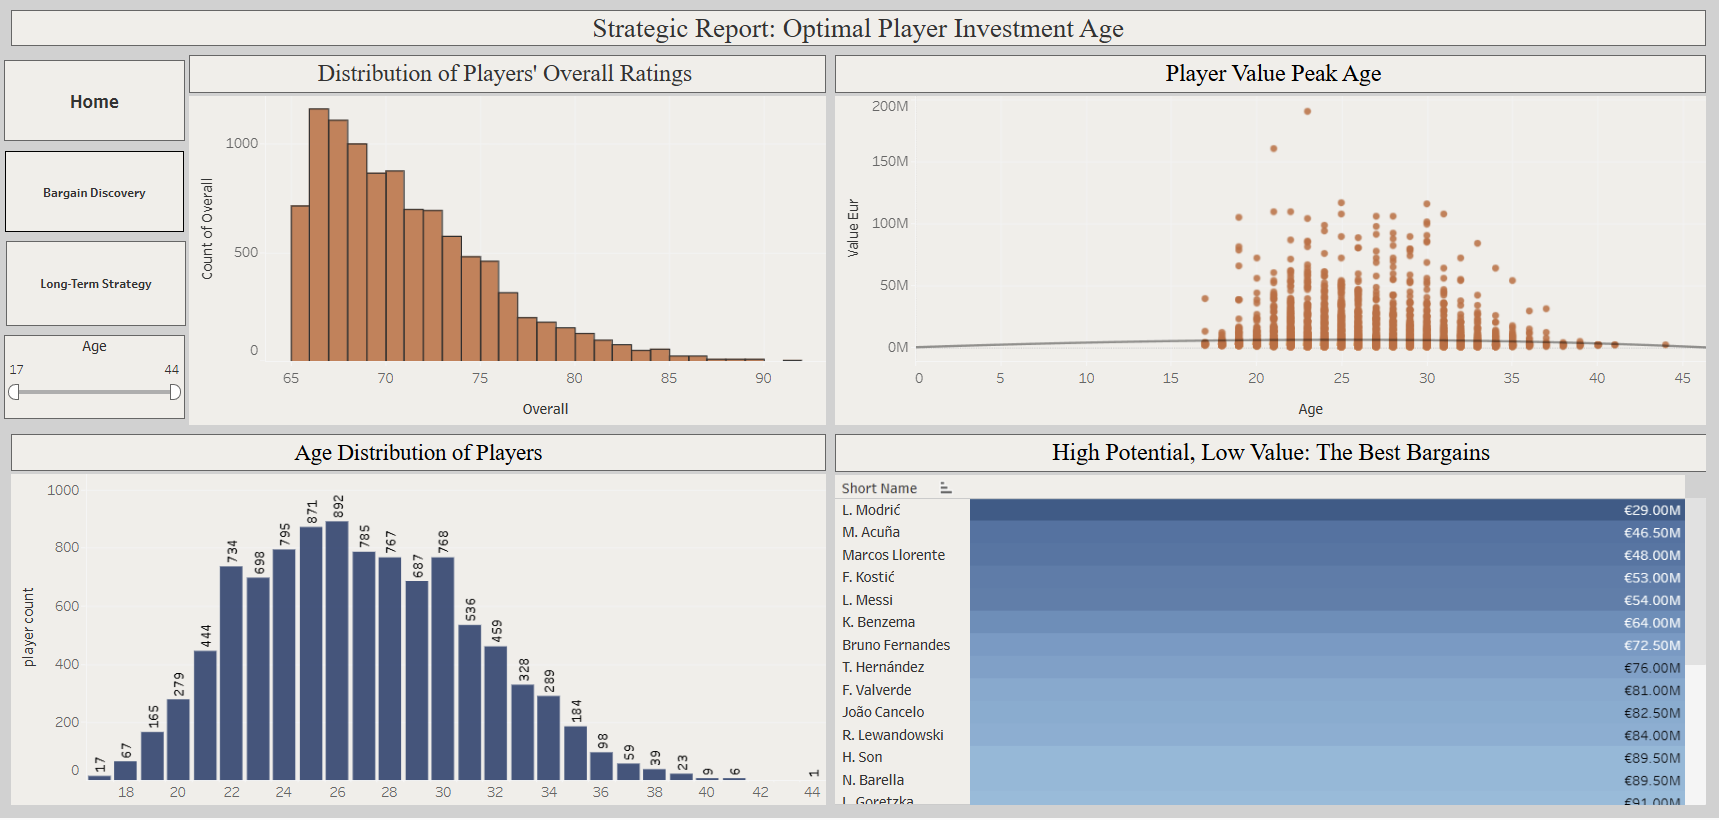

This screenshot's page, from the dashboard's own definition file:
{"tool":"tableau","page":{"name":"Long-Term Strategy","canvas":[1000,1000],"units":"permille","ordinal":2},"visuals":[{"type":"title","box":[5,8.9,990,58.8]},{"type":"blank","box":[5,67.6,104.3,461.4]},{"type":"worksheet","title":"Overall Distribution","mark":"Automatic","rows":["overall"],"cols":["Overall (bin)"],"box":[109.3,67.6,374.8,461.4]},{"type":"worksheet","title":" Player Value Peak Age","mark":"Circle","rows":["value_eur"],"cols":["age"],"box":[484.1,67.6,510.9,461.3]},{"type":"dashboard-object","box":[1.8,73.2,105.4,99.8]},{"type":"image","param":"Image/home.png","box":[6.7,78.7,42.3,75.4]},{"type":"dashboard-object","box":[1.8,184,104.2,99.8]},{"type":"dashboard-object","box":[1.8,296,104.8,102]},{"type":"filter","title":" Player Value Peak Age","param":"[federated.1mq9jqk117321o12laxuu18yrupv].[none:age:qk]","box":[3.1,409.1,102.9,99.8]},{"type":"worksheet","title":"top players u-21","mark":"Automatic","rows":["short_name"],"cols":["composite_score"],"box":[484.1,528.9,510.9,462.2]},{"type":"worksheet","title":"Age Distribution of Players","mark":"Automatic","rows":["Calculation_2063211587714772994"],"cols":["Age (bin)"],"box":[5,529.1,479.1,462.1]}]}

Visuals, with their boxes on the dashboard's canvas, which has no fixed pixel size, in thousandths of its width and height (x1, y1, x2, y2). These are canvas units, not pixel positions in the 1720x820 screenshot, which may show the page scaled, cropped or inside an application window:
title: (5, 9, 995, 68)
blank: (5, 68, 109, 529)
"Overall Distribution" worksheet: (109, 68, 484, 529)
" Player Value Peak Age" worksheet (Circle marks): (484, 68, 995, 529)
dashboard-object: (2, 73, 107, 173)
image: (7, 79, 49, 154)
dashboard-object: (2, 184, 106, 284)
dashboard-object: (2, 296, 107, 398)
" Player Value Peak Age" filter: (3, 409, 106, 509)
"top players u-21" worksheet: (484, 529, 995, 991)
"Age Distribution of Players" worksheet: (5, 529, 484, 991)
